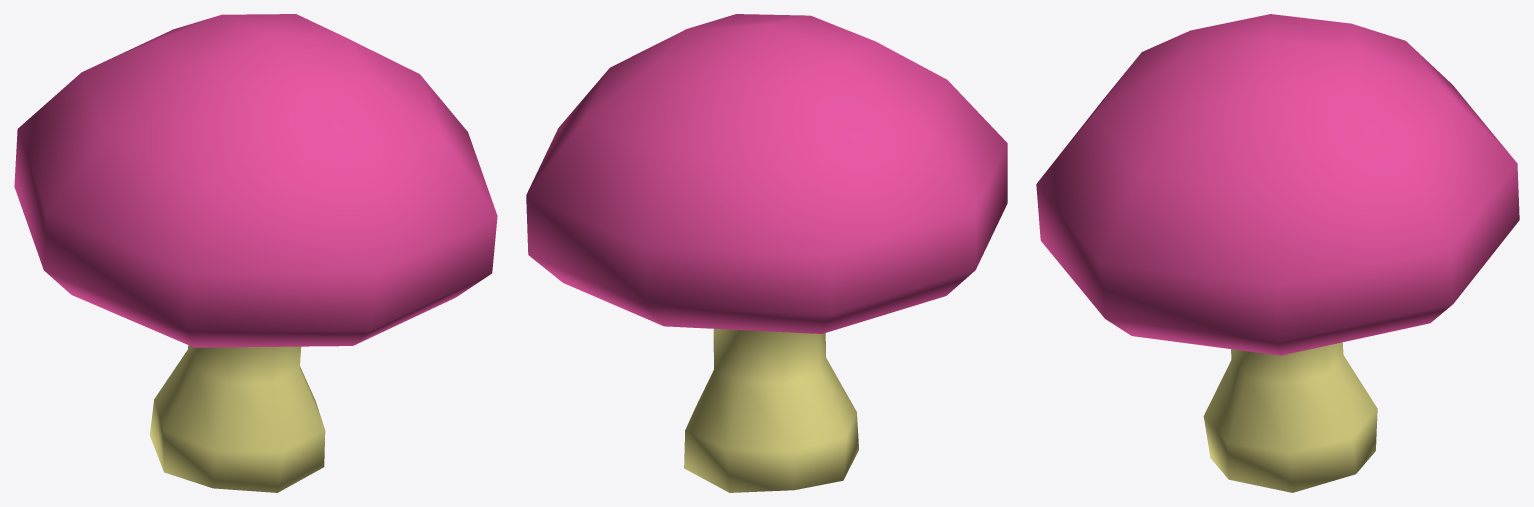
The model's file is MushRoom.fbx.
3 views of the same model, side by side, from view 1: azimuth 30°, elevation 25°; view 2: azimuth 150°, elevation 25°; view 3: azimuth 270°, elevation 25° (orthographic).
Visible parts, largest first — view 1: Mushroom; view 2: Mushroom; view 3: Mushroom.
Boxes of the visible parts, x1,y1,x2,y2 form: Mushroom: (14,14,497,492); Mushroom: (526,14,1007,492); Mushroom: (1036,14,1519,492).
Bounding box in the file's own units: 144 × 145 × 144.
